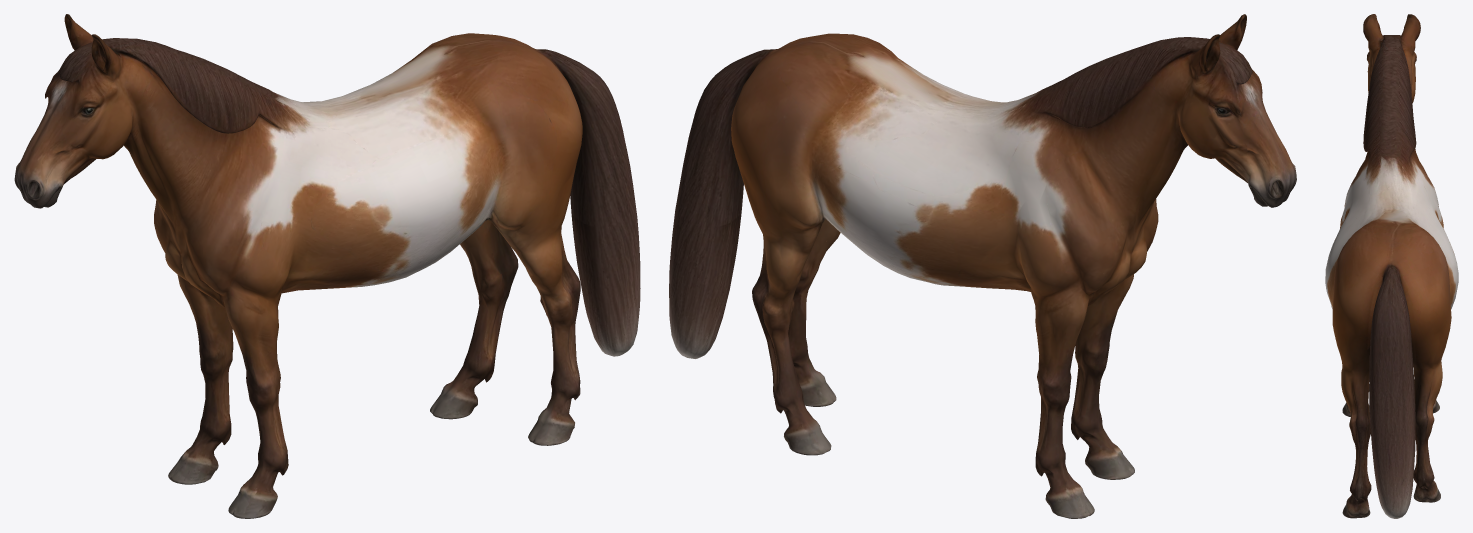
The picture shows the model from 3 angles, left to right: view 1: azimuth 30°, elevation 25°; view 2: azimuth 150°, elevation 25°; view 3: azimuth 270°, elevation 25°; orthographic projection. The views are drawn at different scales.
Parts seen in each view (by area): view 1: node_0; view 2: node_0; view 3: node_0.
Part boxes in pixels (x1,y1,x2,y2): node_0: [14, 14, 640, 518]; node_0: [669, 14, 1296, 518]; node_0: [1325, 14, 1458, 518].
Bounding box in the file's own units: 1.03 × 0.7994 × 0.2766.
Materials: 1 (1 with a texture image).
